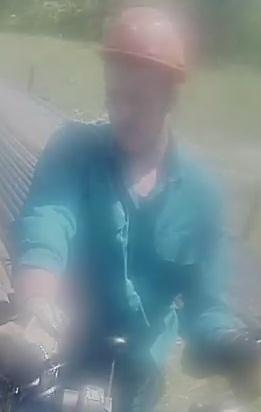gloves: (0, 288, 62, 385), (207, 319, 261, 391)
helmet: (94, 0, 190, 81)
vest: (3, 121, 204, 349)
